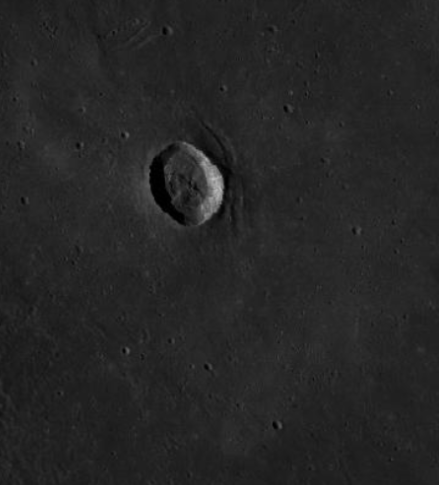crater: (85, 63, 352, 323)
